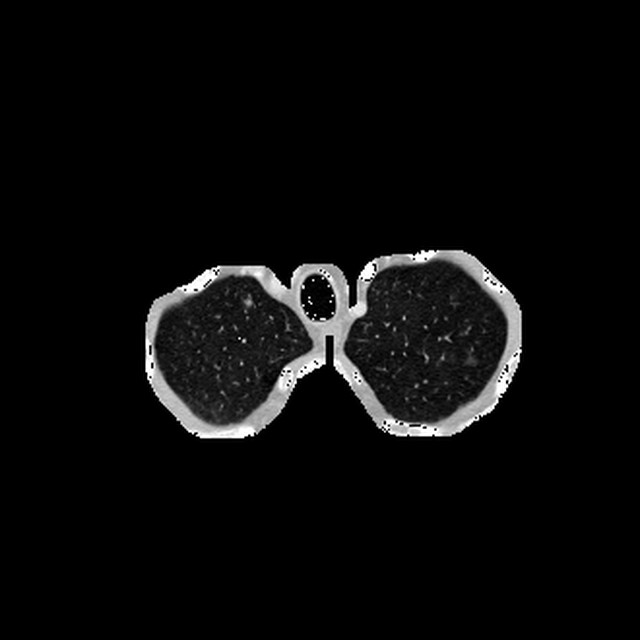PN: (244, 299, 252, 306)
